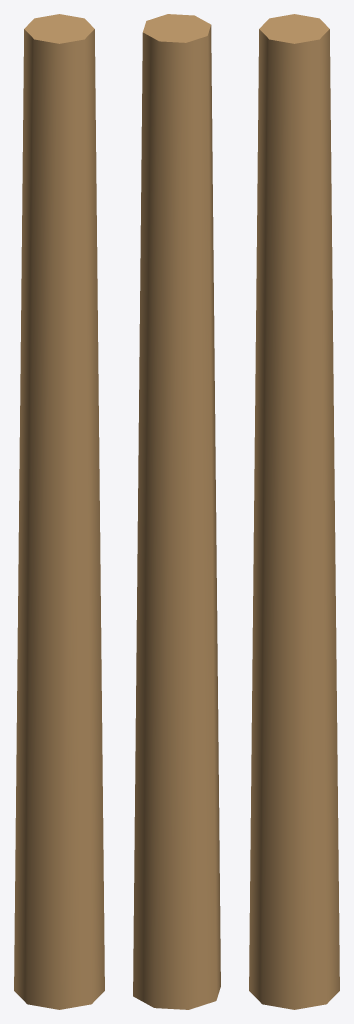
The model's file is poste.glb.
3 views of the same model, side by side, from view 1: azimuth 90°, elevation 25°; view 2: azimuth 150°, elevation 25°; view 3: azimuth 270°, elevation 25° (orthographic).
Visible parts, largest first — view 1: poste; view 2: poste; view 3: poste.
Part boxes in pixels (<box>): poste: <box>14,14,104,1009</box>; poste: <box>133,14,220,1009</box>; poste: <box>249,14,339,1009</box>.
Size of the model in its own units: 0.09 by 1.05 by 0.09.
